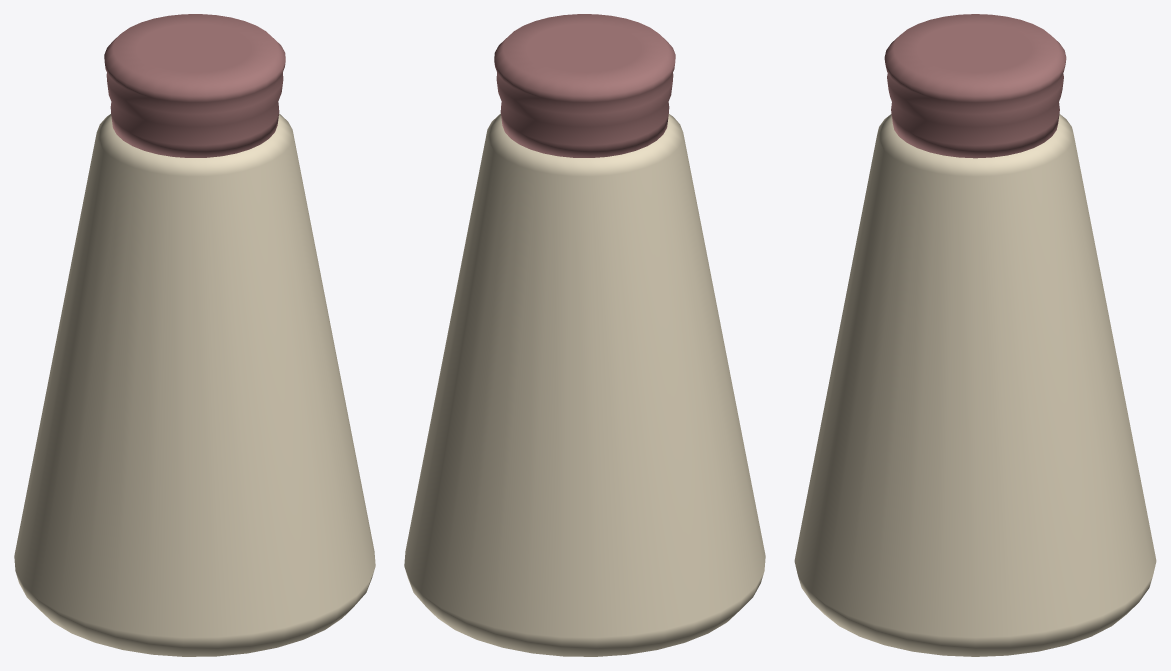
Rendered from Salt&PepperBottle.fbx.
3 renders of one model, left to right at view 1: azimuth 30°, elevation 25°; view 2: azimuth 150°, elevation 25°; view 3: azimuth 270°, elevation 25°, orthographic.
Parts seen in each view (by area): view 1: bottle, cover; view 2: bottle, cover; view 3: bottle, cover.
Part boxes in pixels (<box>): bottle: <box>14,113,375,656</box>; cover: <box>104,14,285,157</box>; bottle: <box>404,113,765,656</box>; cover: <box>494,14,675,157</box>; bottle: <box>794,114,1156,656</box>; cover: <box>884,14,1066,158</box>.
Bounding box in the file's own units: 12.28 × 20.37 × 12.28.
